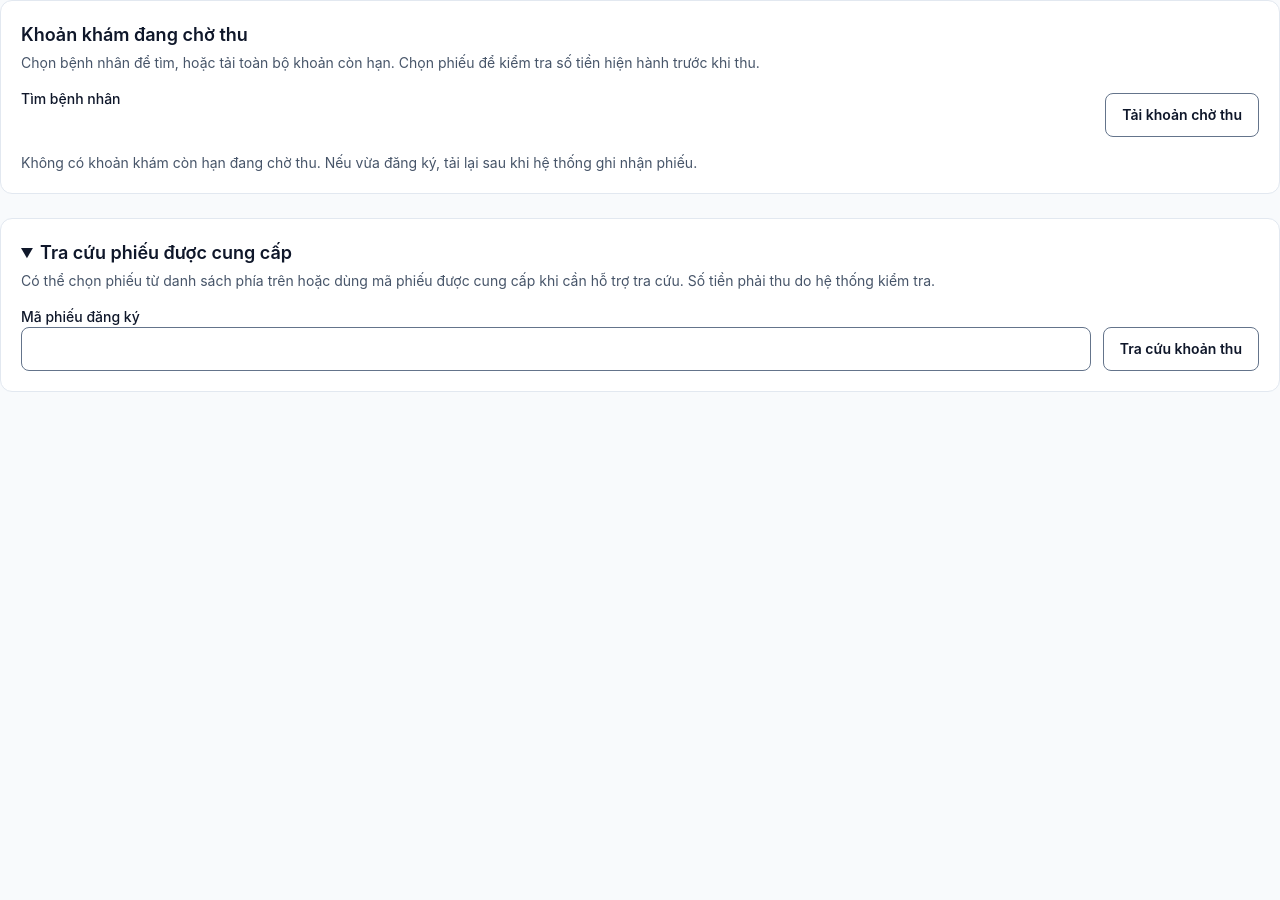
Scenario: scheduled outpatient cashier workflow › retains the same idempotency key after an uncertain result and waits for Clinical confirmation
Step 1. Type "registration-id" into the field labelled "Mã phiếu đăng ký" → [556, 349], box left=21, top=327, right=1091, bottom=371
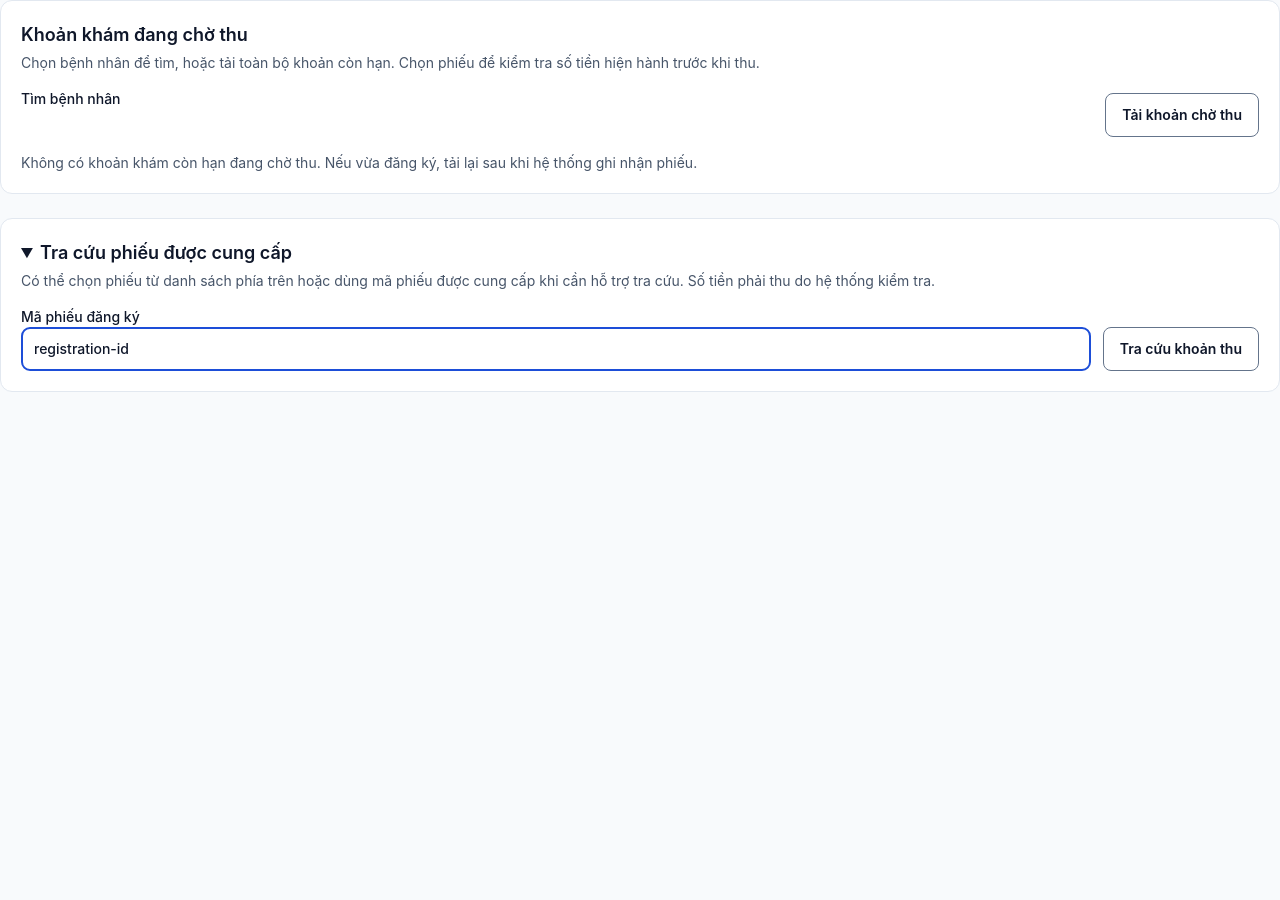
Step 2. Click the button "Tra cứu khoản thu" → [1181, 349], box left=1103, top=327, right=1259, bottom=371
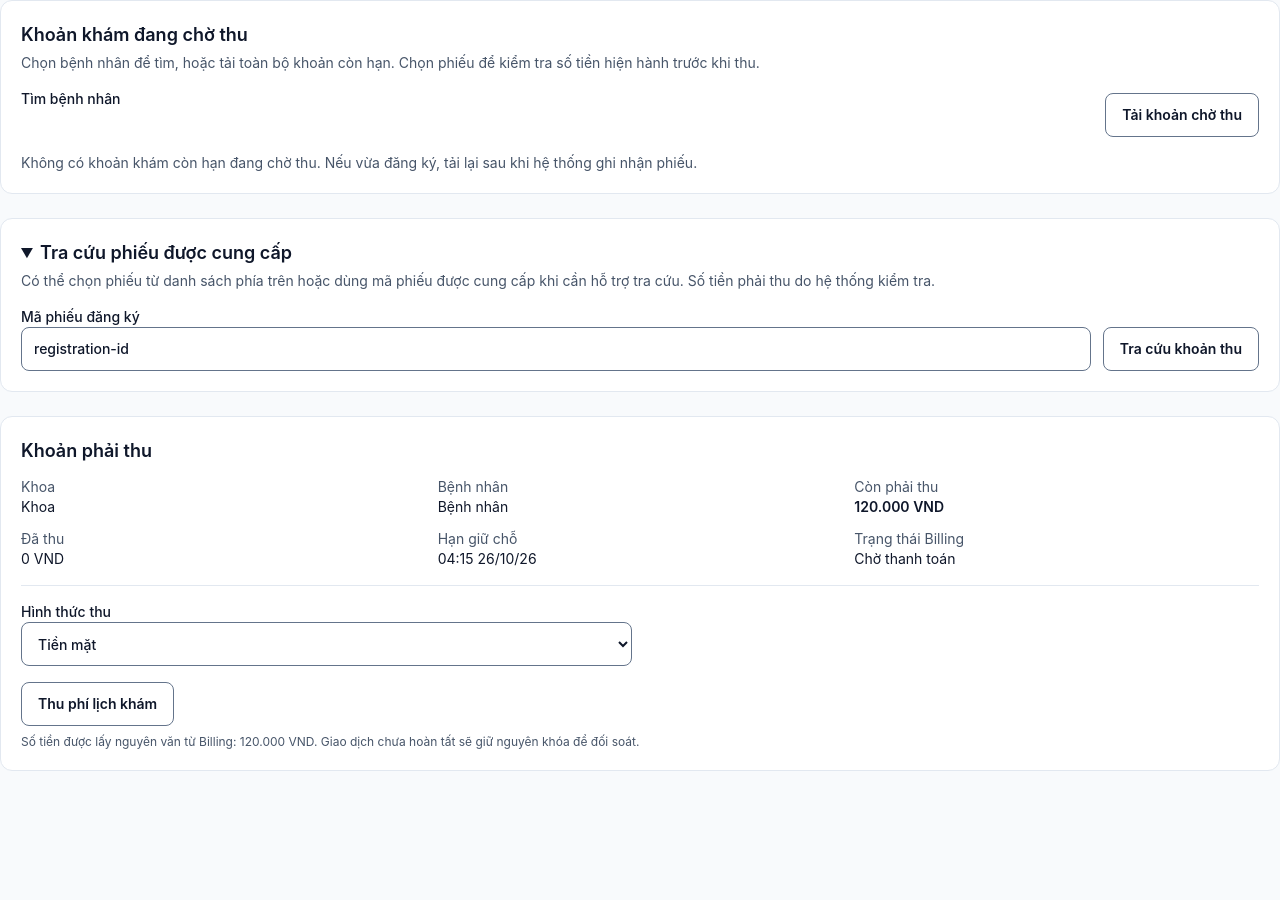
Now the text "120.000 VND" is shown, box left=854, top=498, right=944, bottom=515
Step 3. Click the button "Thu phí lịch khám" → [98, 704], box left=21, top=682, right=174, bottom=726
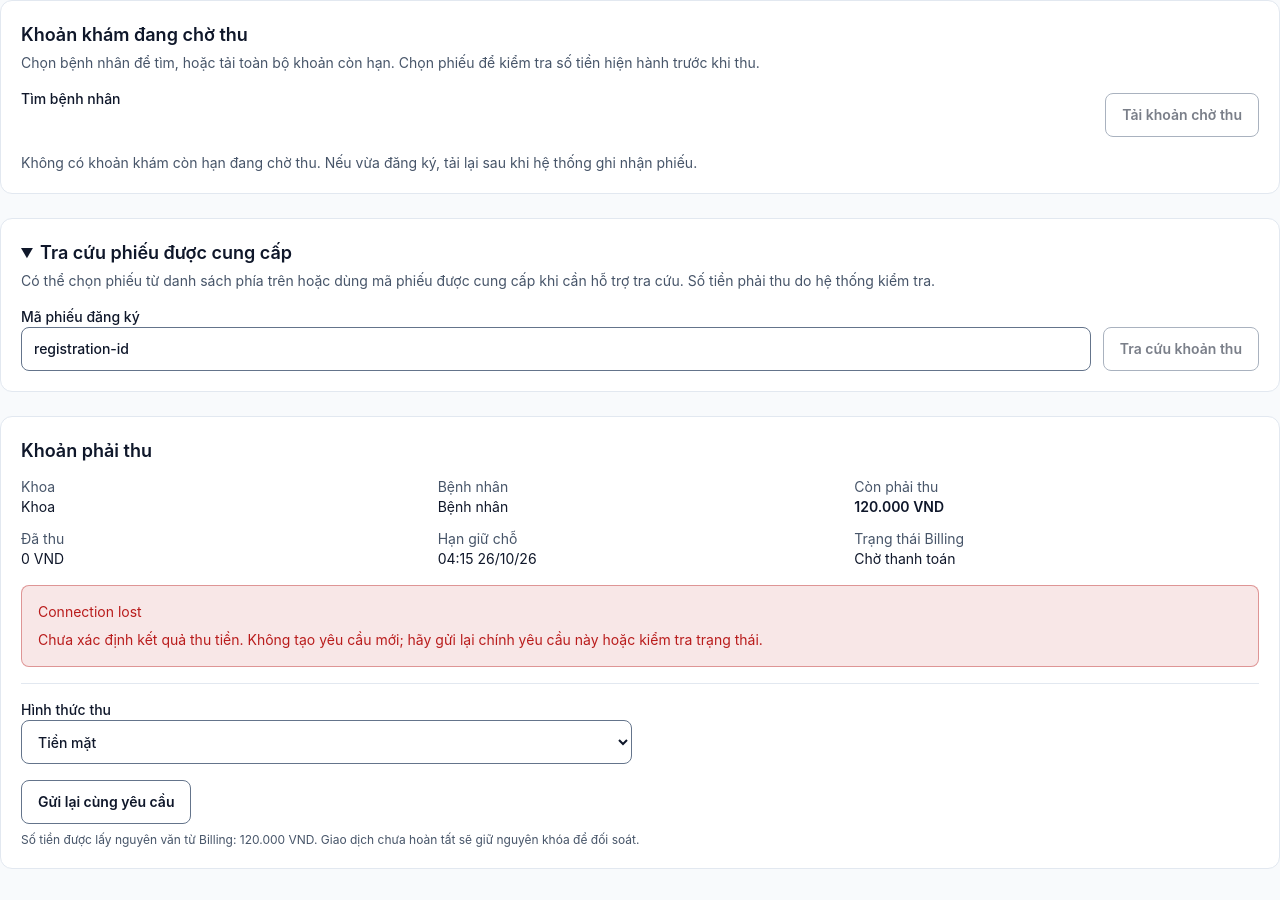
Now the message that starts with "Connection lost" shows "Chưa xác định", box left=38, top=631, right=763, bottom=648
Step 4. Click the button "Gửi lại cùng yêu cầu" → [106, 802], box left=21, top=780, right=192, bottom=824
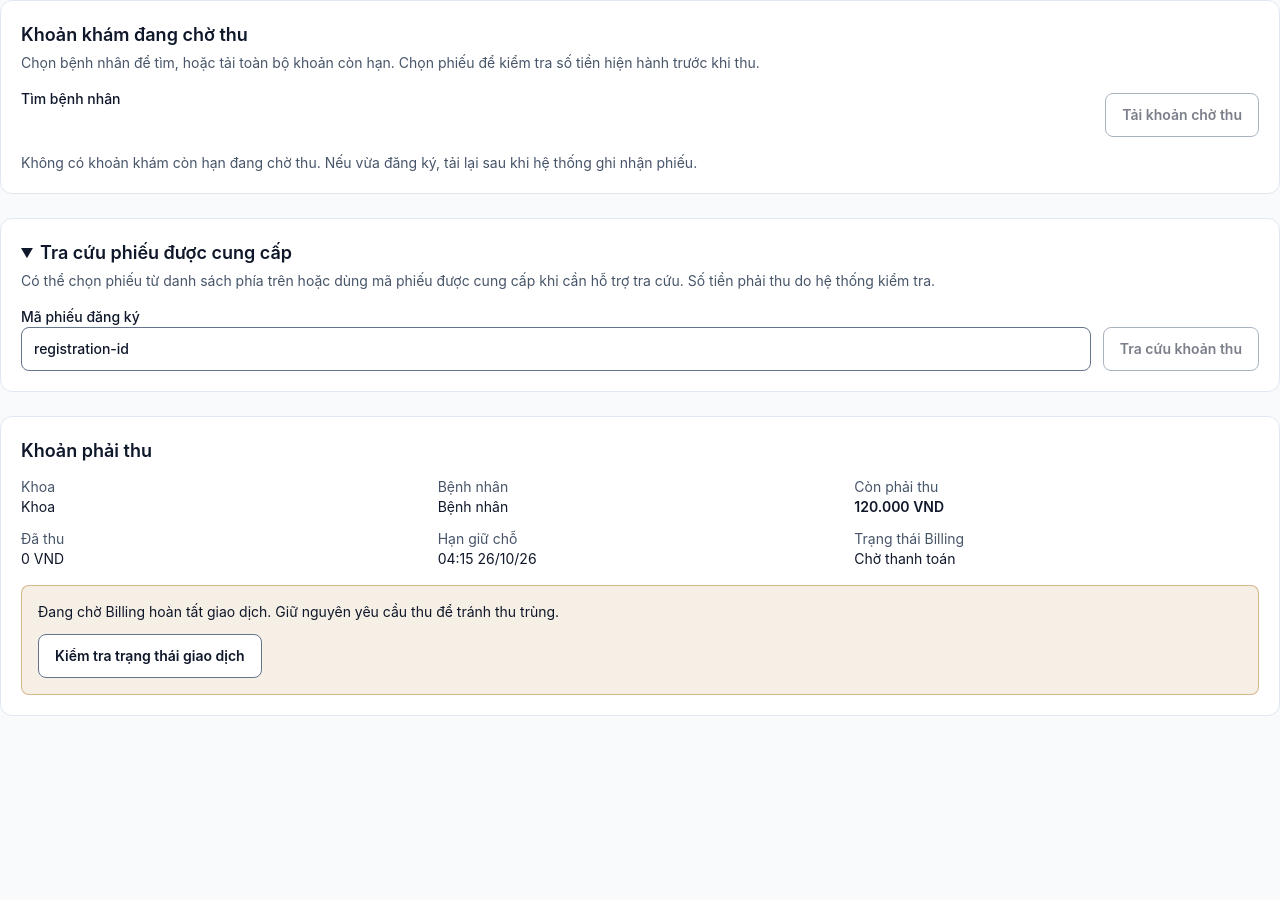
Now the text "Đang chờ Billing hoàn tất giao dịch" is shown, box left=38, top=603, right=559, bottom=620
Step 5. Click the button "Kiểm tra trạng thái giao dịch" → [150, 656], box left=38, top=634, right=262, bottom=678
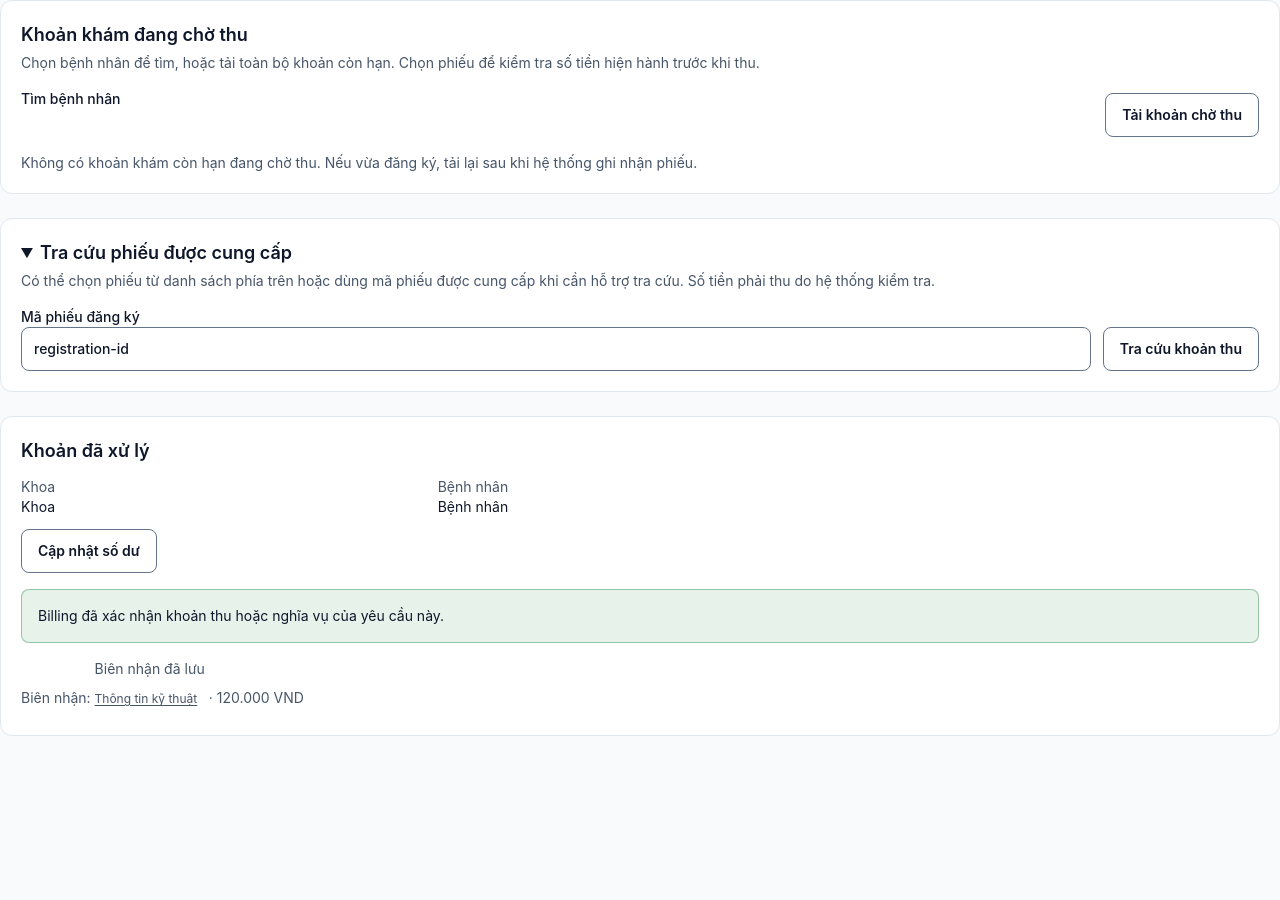
Now the text "Billing đã xác nhận khoản thu hoặc nghĩa vụ của yêu cầu này." is shown, box left=21, top=589, right=1259, bottom=643
Now the text "Còn phải thu" is gone
Now the heading "Khoản đã xử lý" is shown, box left=21, top=440, right=150, bottom=461
